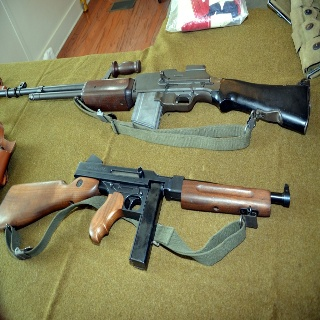rifle: (1, 155, 297, 271), (1, 60, 314, 134)
